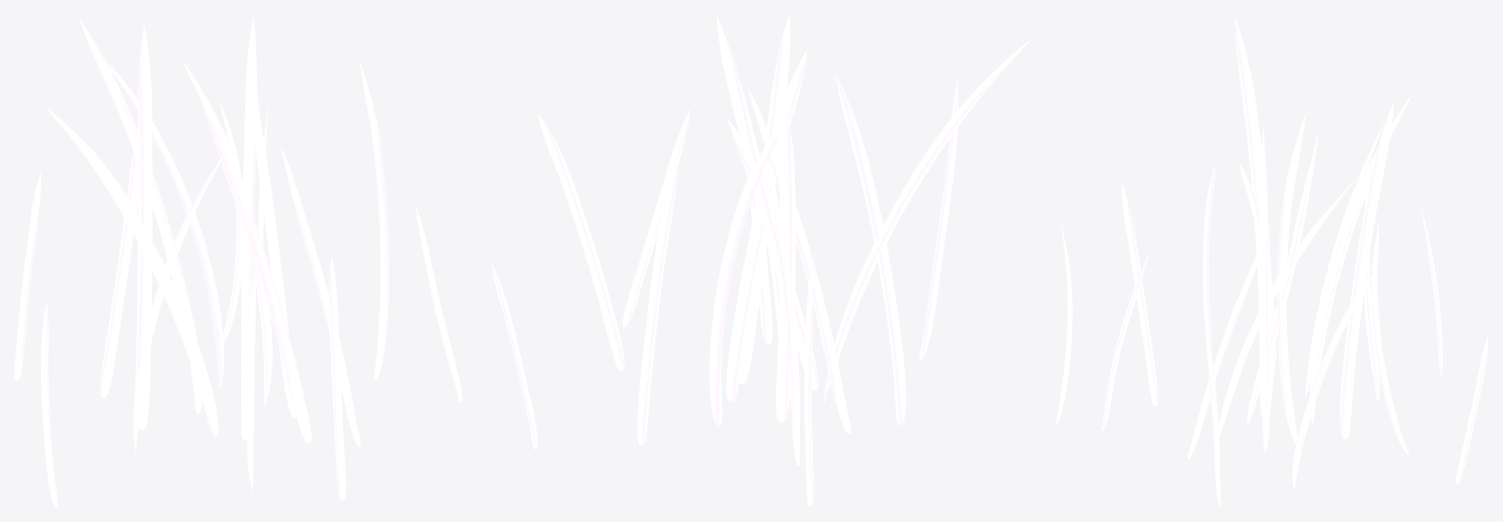
The picture shows the model from 3 angles, left to right: view 1: azimuth 30°, elevation 25°; view 2: azimuth 150°, elevation 25°; view 3: azimuth 270°, elevation 25°; orthographic projection. The views are drawn at different scales.
Parts seen in each view (by area): view 1: SM_LongGrass_03_LOD0; view 2: SM_LongGrass_03_LOD0; view 3: SM_LongGrass_03_LOD0.
Boxes of the visible parts, x1,y1,x2,y2 form: SM_LongGrass_03_LOD0: (14,16,461,507); SM_LongGrass_03_LOD0: (491,16,1072,506); SM_LongGrass_03_LOD0: (1101,18,1488,506).
Size of the model in its own units: 0.9005 by 0.792 by 0.8434.
1 material, 1 textured.
